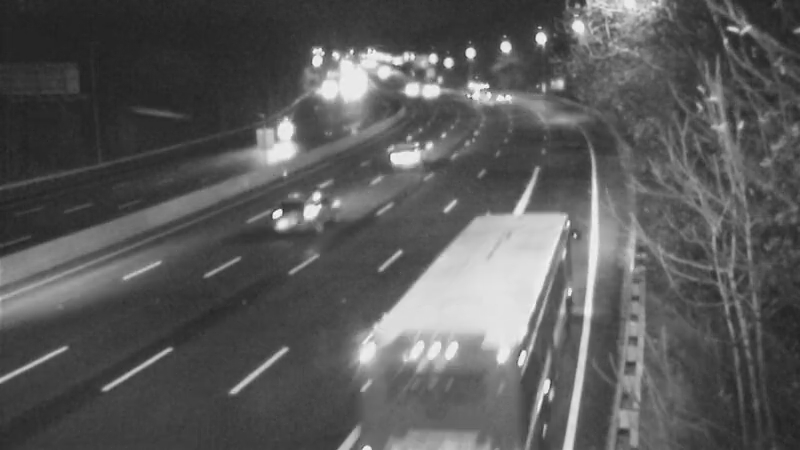vehicle: (369, 112, 449, 192), (264, 170, 344, 250), (447, 260, 527, 340), (445, 58, 495, 108), (384, 59, 434, 109), (405, 65, 455, 115), (472, 68, 522, 118), (261, 106, 311, 156)
